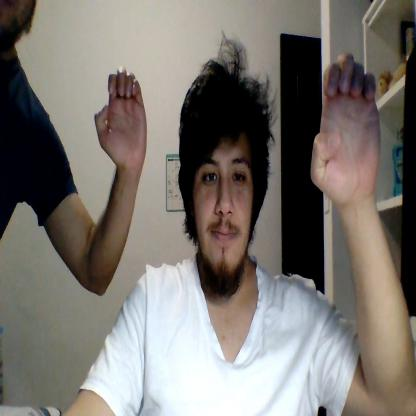E: (310, 53, 380, 202), (95, 66, 148, 170)
